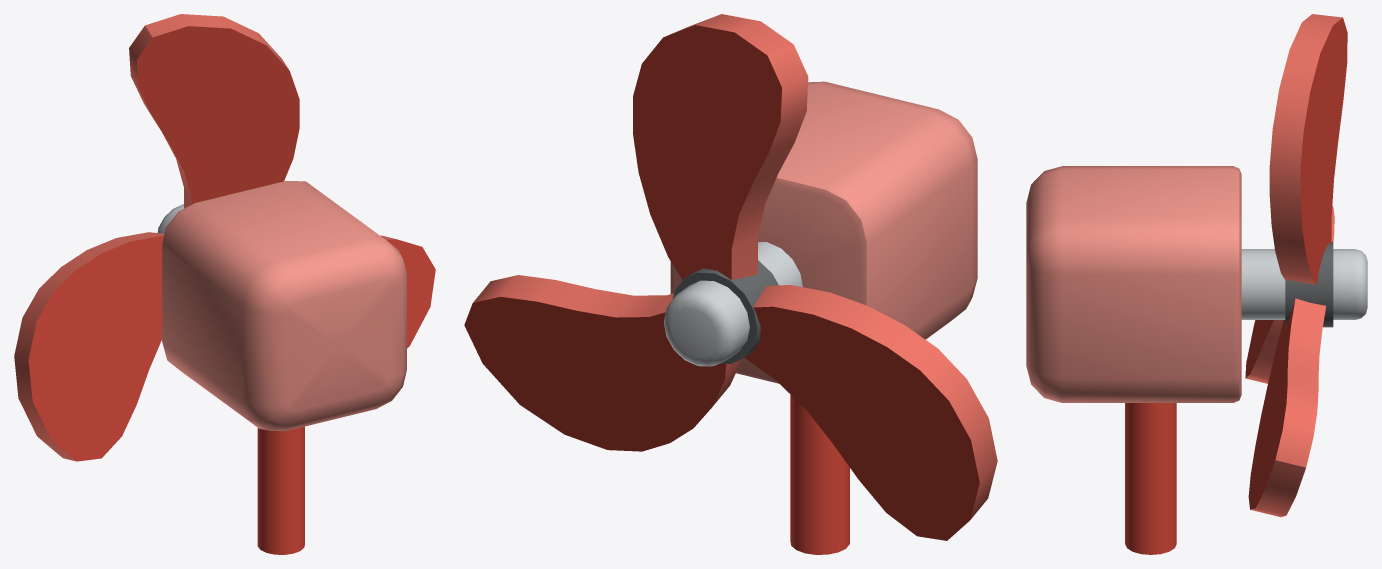
Rendered from Obstacles.Fan.002.fbx.
The picture shows the model from 3 angles, left to right: view 1: azimuth 30°, elevation 25°; view 2: azimuth 150°, elevation 25°; view 3: azimuth 270°, elevation 25°; orthographic projection. The views are drawn at different scales.
Visible parts, largest first — view 1: Obstacles.Fan.Base.002, Obstacles.Fan.002; view 2: Obstacles.Fan.002, Obstacles.Fan.Base.002; view 3: Obstacles.Fan.Base.002, Obstacles.Fan.002.
Boxes of the visible parts, x1,y1,x2,y2 form: Obstacles.Fan.Base.002: (162, 181, 406, 554); Obstacles.Fan.002: (14, 14, 435, 461); Obstacles.Fan.002: (464, 14, 997, 540); Obstacles.Fan.Base.002: (670, 81, 977, 554); Obstacles.Fan.Base.002: (1026, 166, 1241, 554); Obstacles.Fan.002: (1241, 14, 1367, 517).
Size of what is drawn, in the model's own units: 2.44 by 2.7 by 1.64.
